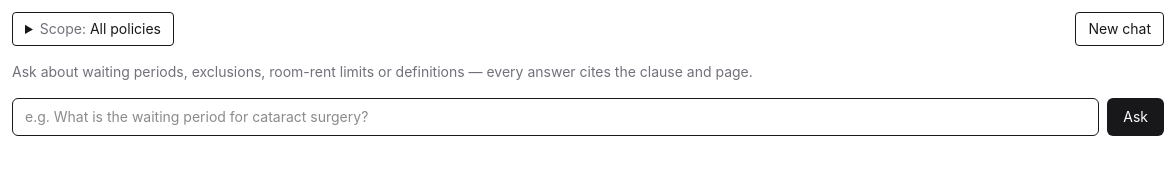
Test case: ChatView › still says "No ready policies yet." when the list loaded and is empty
Click the heading "Scope: All policies" at (93, 29), box [12,12,174,46]
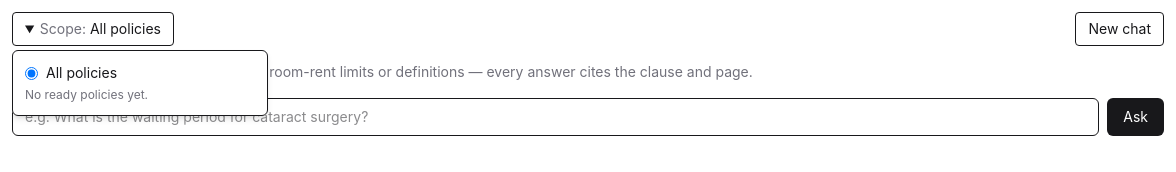
Expected: the text "No ready policies yet." is shown, [25,87,148,102]
